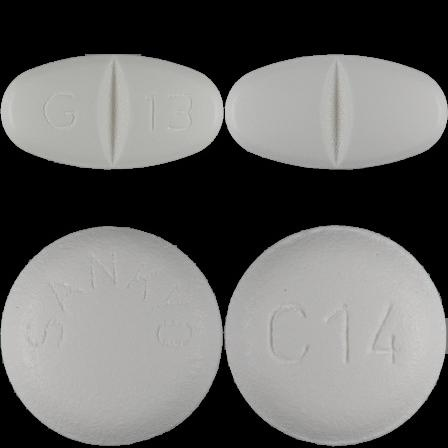49999-799: (0, 0, 224, 224)
